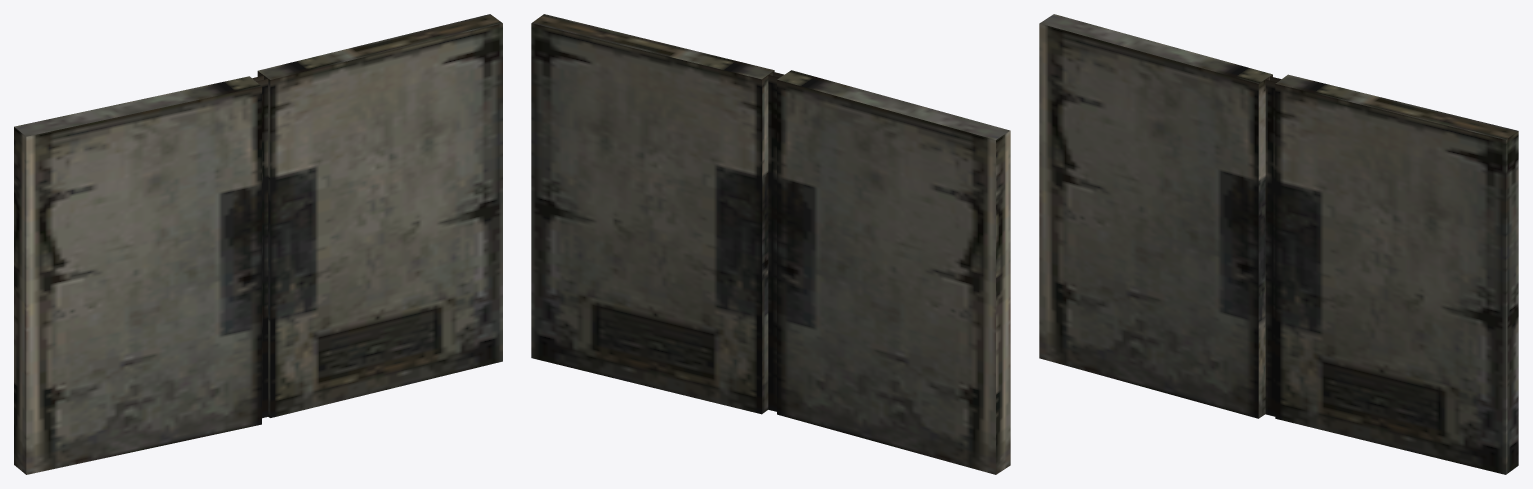
The model's file is mctardor.glb.
The picture shows the model from 3 angles, left to right: view 1: azimuth 30°, elevation 25°; view 2: azimuth 150°, elevation 25°; view 3: azimuth 330°, elevation 25°; orthographic projection.
Visible parts, largest first — view 1: _mctardor; view 2: _mctardor; view 3: _mctardor.
Boxes of the visible parts, x1,y1,x2,y2 form: _mctardor: (14, 14, 502, 474); _mctardor: (531, 14, 1010, 474); _mctardor: (1039, 14, 1518, 474).
Size of the model in its own units: 4.03 by 2.75 by 0.305.
Materials: 1 (1 with a texture image).
